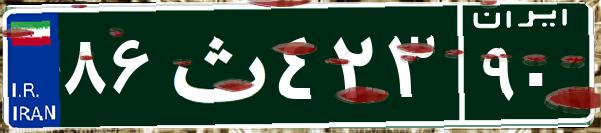0: (525, 38, 570, 115)
2: (330, 28, 385, 110)
3: (385, 28, 445, 110)
4: (273, 28, 330, 110)
6: (110, 28, 158, 105)
8: (57, 26, 110, 107)
9: (475, 38, 525, 113)
ث: (158, 15, 273, 115)
